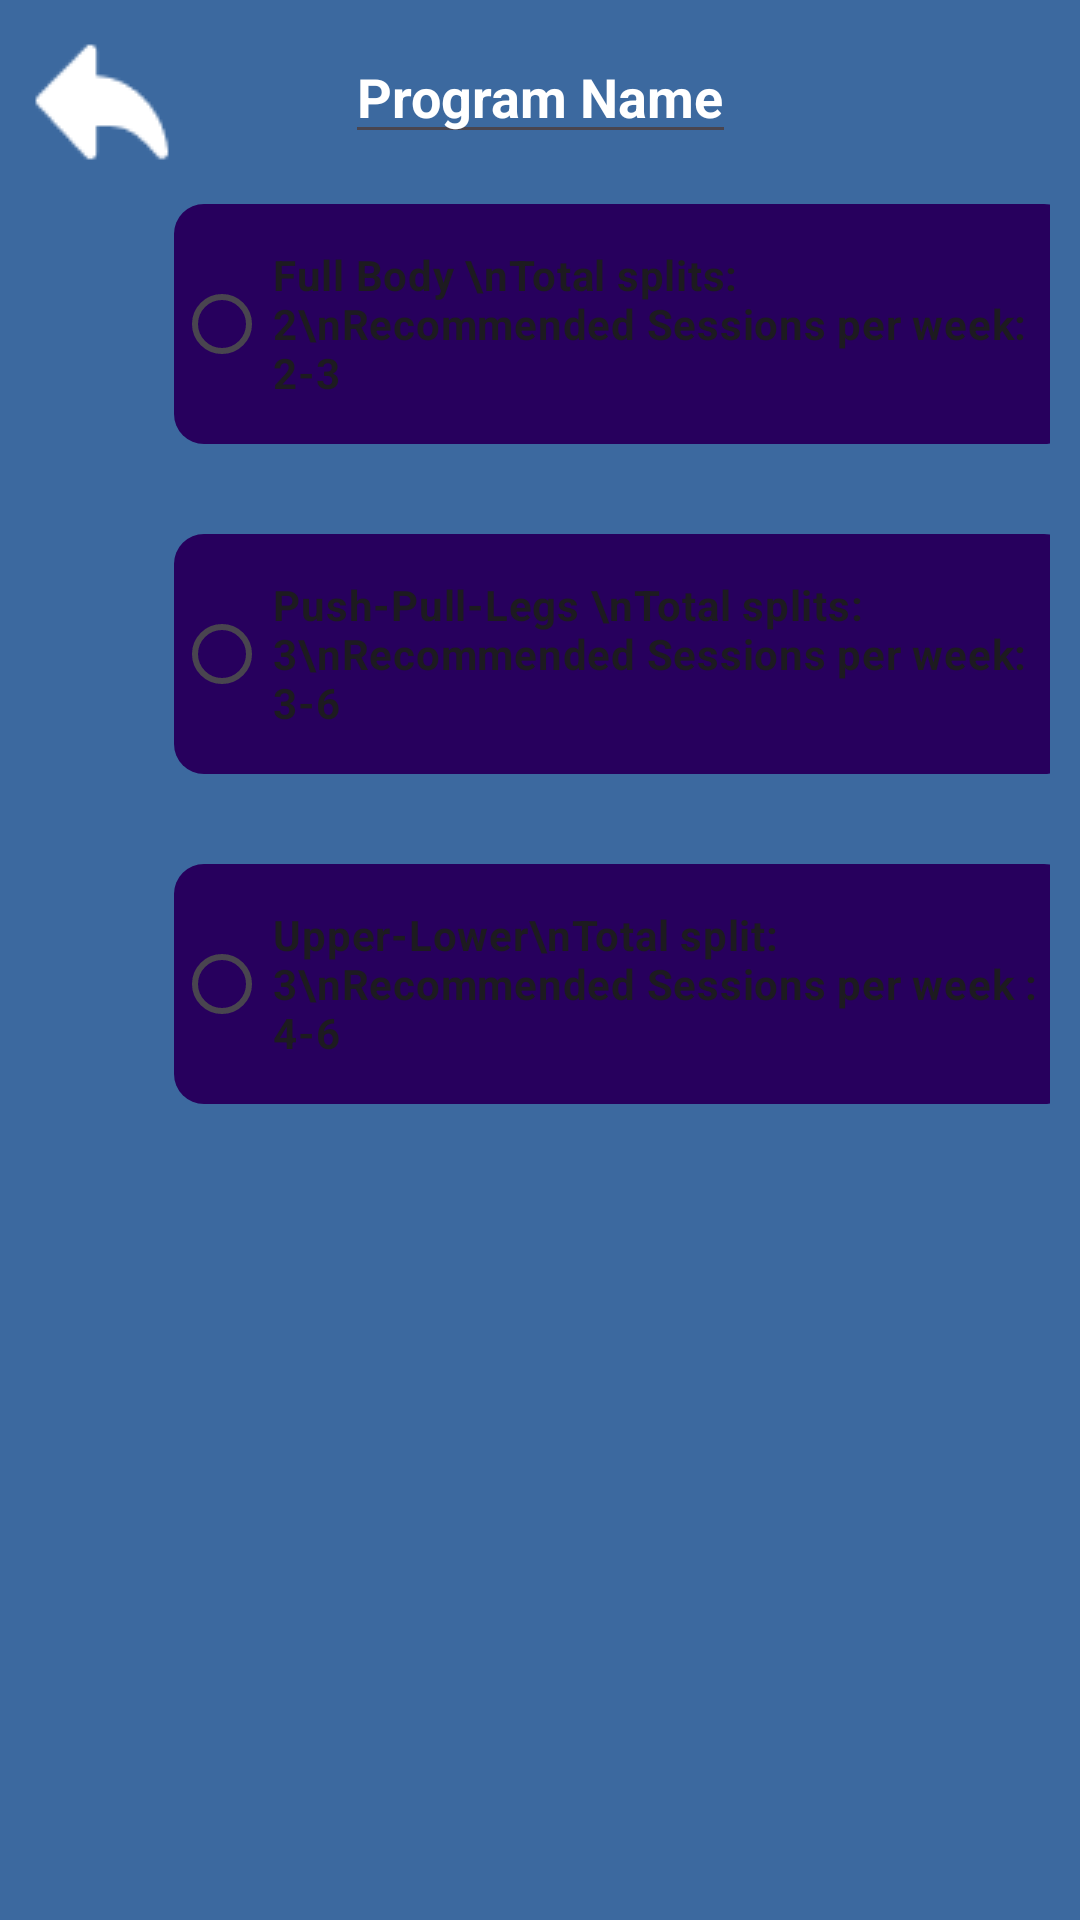

Named icons in this screenshot (1080×1920) and their bounding boxes, (x1, y1, x2, y2):
backbutton: (35, 44, 169, 160)
